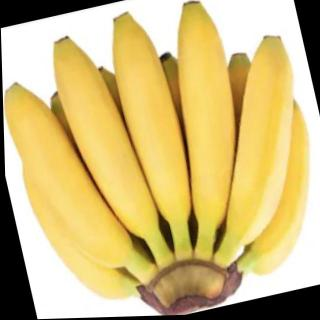banana: (2, 64, 136, 286), (186, 31, 320, 250), (146, 0, 262, 234), (43, 23, 163, 249), (100, 5, 202, 233)
